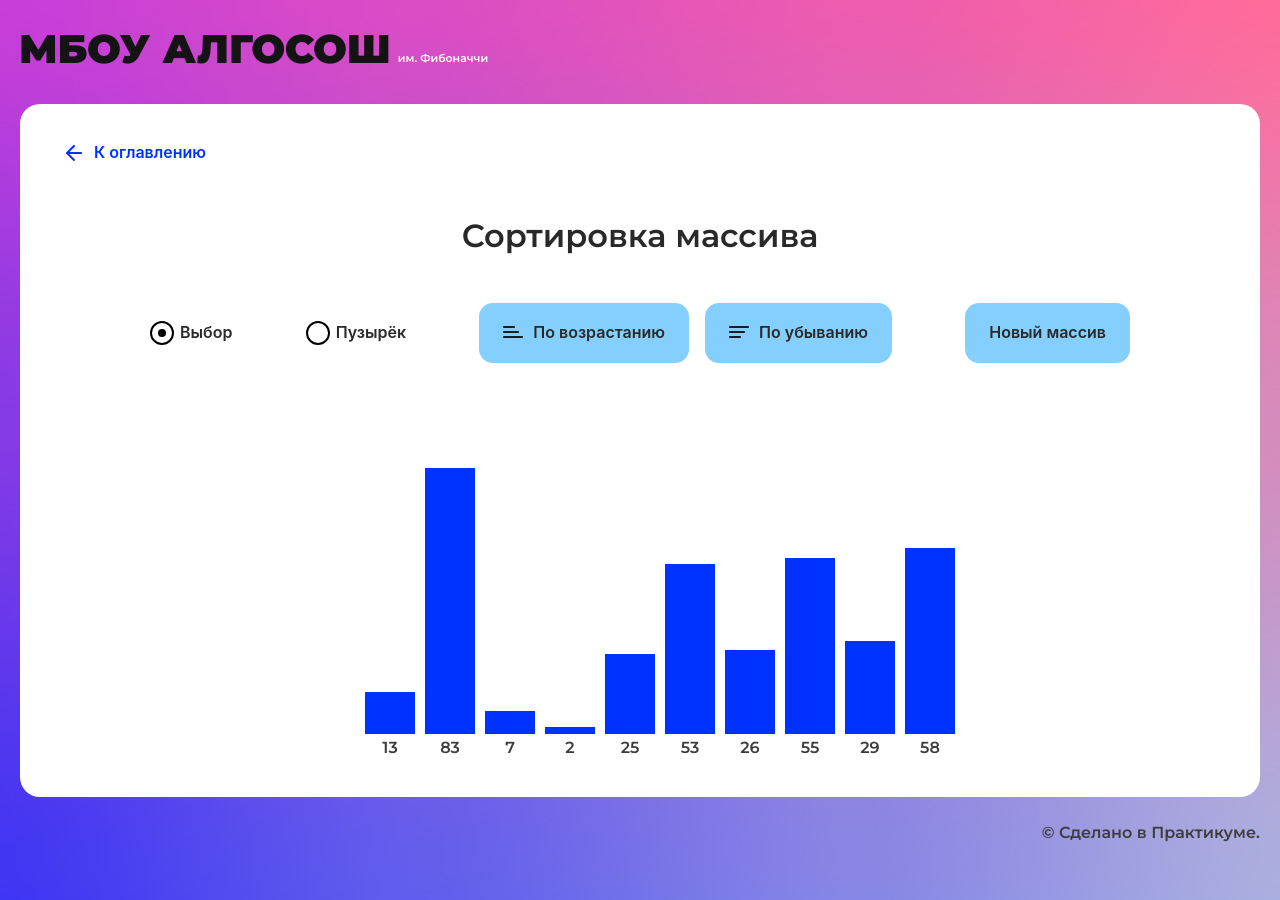
Test: checking the operation of the buttons on the sorting page › check for disabling buttons, the presence of a loader on the selected sort button-increase during sorting
What coordinates should you click on to do the following:
click the button with test id "button-increase"
I would click on:
 (584, 333)
Its box is [479,303,689,363].
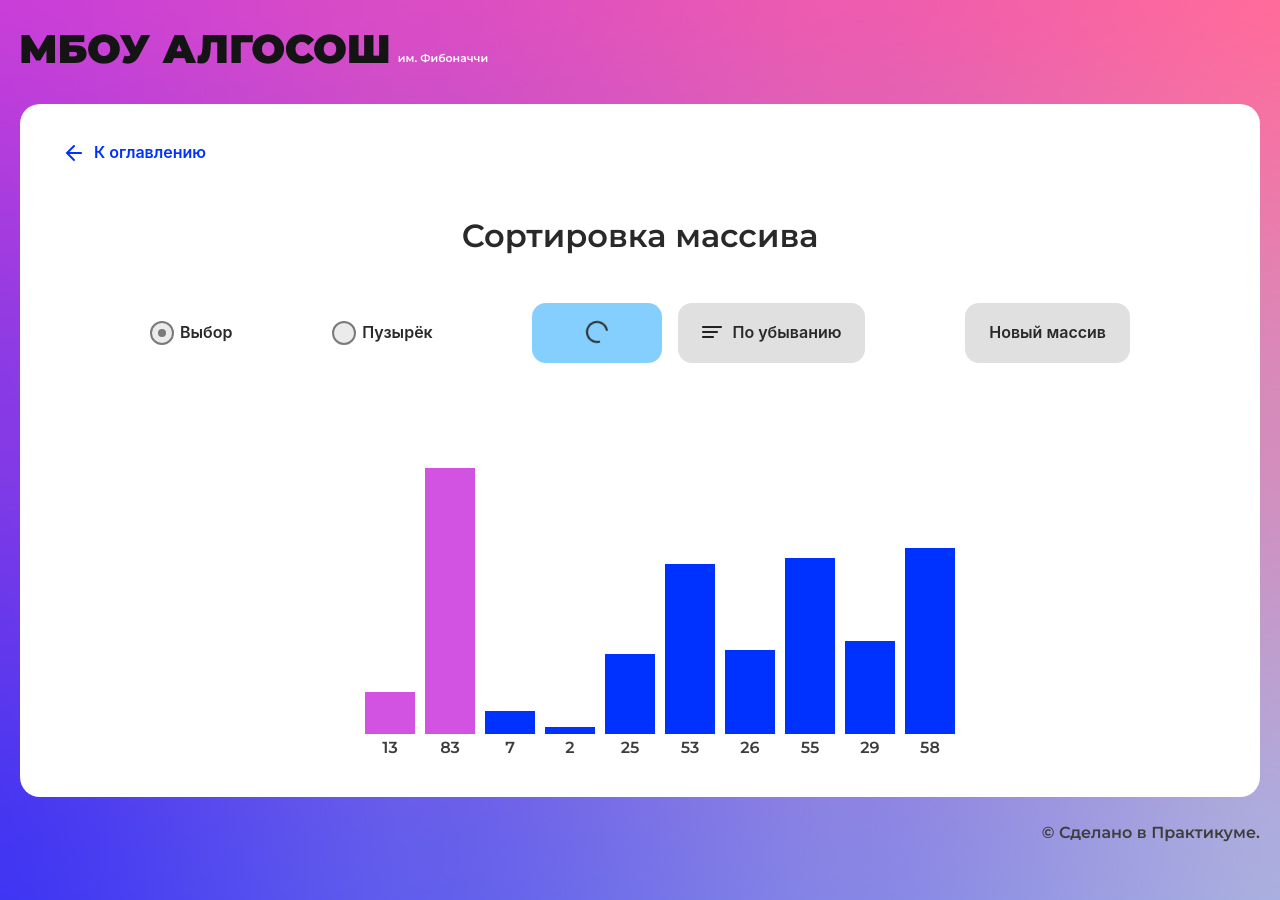
Expected: the button with test id "button-descending" is disabled, [679,303,866,363]
Expected: the button with test id "new-array" is disabled, [965,303,1130,363]
